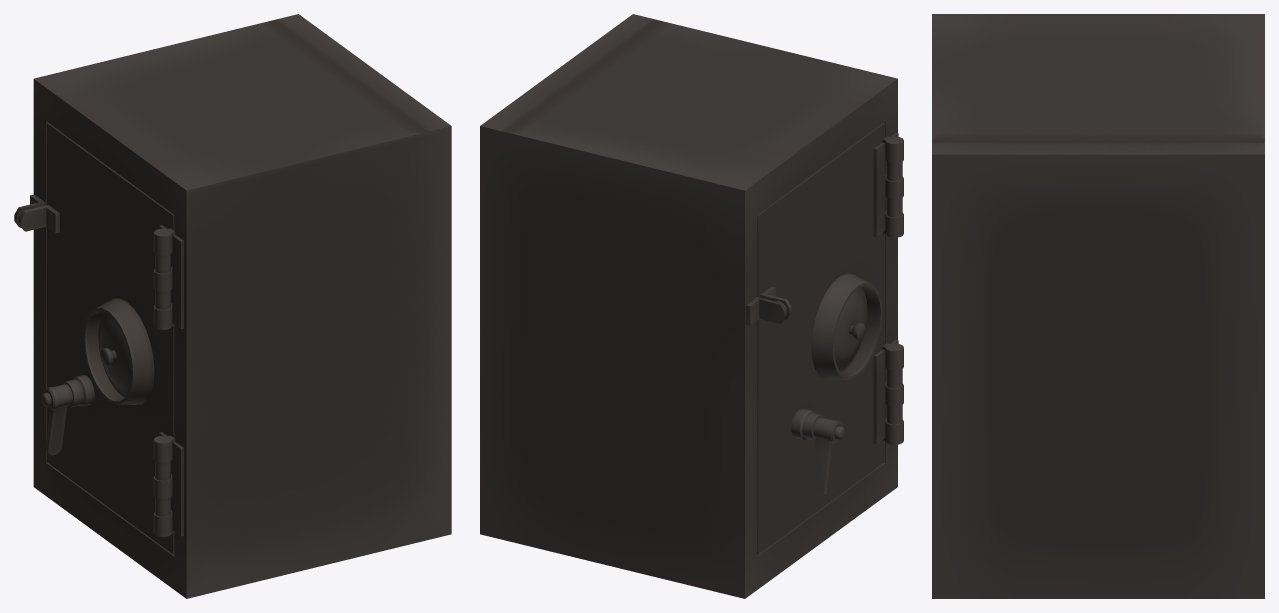
The model's file is SM_Safe.fbx.
The picture shows the model from 3 angles, left to right: view 1: azimuth 30°, elevation 25°; view 2: azimuth 150°, elevation 25°; view 3: azimuth 270°, elevation 25°; orthographic projection. The views are drawn at different scales.
Visible parts, largest first — view 1: SM_Safe; view 2: SM_Safe; view 3: SM_Safe.
Boxes of the visible parts, x1,y1,x2,y2 form: SM_Safe: [14, 14, 451, 598]; SM_Safe: [480, 14, 903, 598]; SM_Safe: [932, 14, 1264, 598].
Bounding box in the file's own units: 52.53 × 45.06 × 66.35.
1 material, 1 textured.
